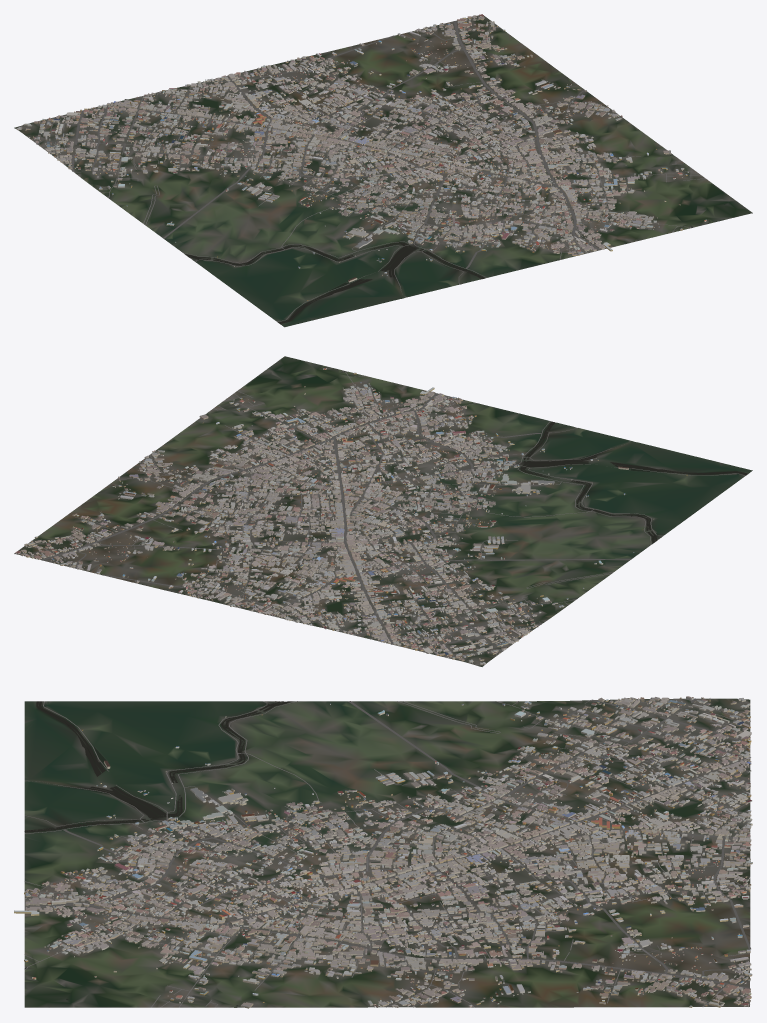
3 views of the same model, one above another, from view 1: azimuth 30°, elevation 25°; view 2: azimuth 150°, elevation 25°; view 3: azimuth 270°, elevation 25° (orthographic). The views are drawn at different scales.
Visible parts, largest first — view 1: ground, buildings, roads, water; view 2: ground, buildings, roads, water; view 3: ground, buildings, roads, water.
Boxes of the visible parts, box(x1,y1,x2,y2) form: ground: box(14, 15, 752, 327); buildings: box(16, 14, 706, 300); roads: box(21, 15, 705, 321); water: box(185, 155, 743, 323); ground: box(14, 356, 752, 666); buildings: box(15, 368, 687, 664); roads: box(14, 370, 745, 664); water: box(207, 363, 747, 543); ground: box(24, 698, 750, 1007); buildings: box(14, 696, 752, 1008); roads: box(24, 698, 750, 1007); water: box(24, 701, 292, 1007).
Bounding box in the file's own units: 2814 × 29.95 × 2853.
